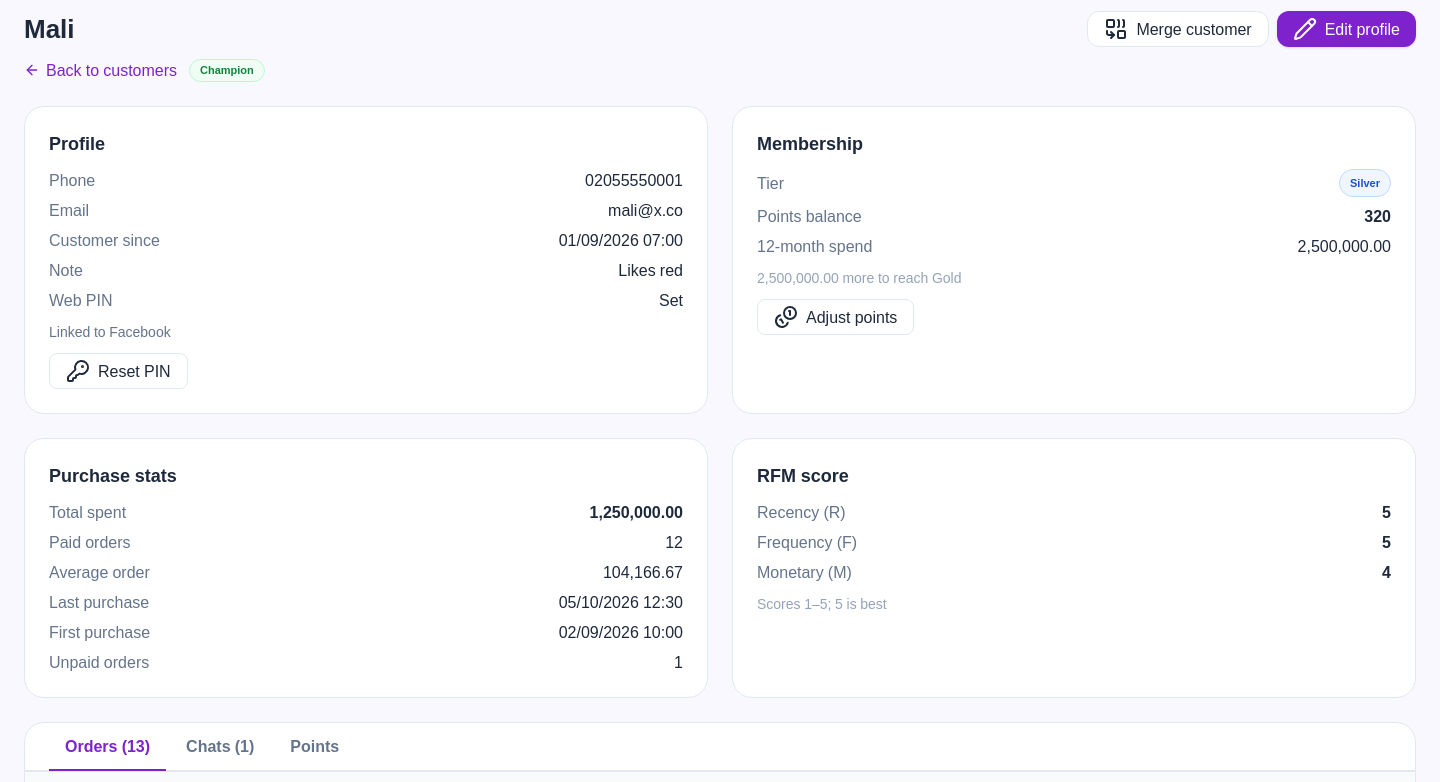
Test: CustomerDetail › ແຖບບິນ (ລິ້ງໄປບິນ) ແລະ ແຖບແຊັດ (ລິ້ງໄປ inbox)
Click the tab "Chats (1)": coordinates (220, 746) [170,722,270,770]
(page scrolled)
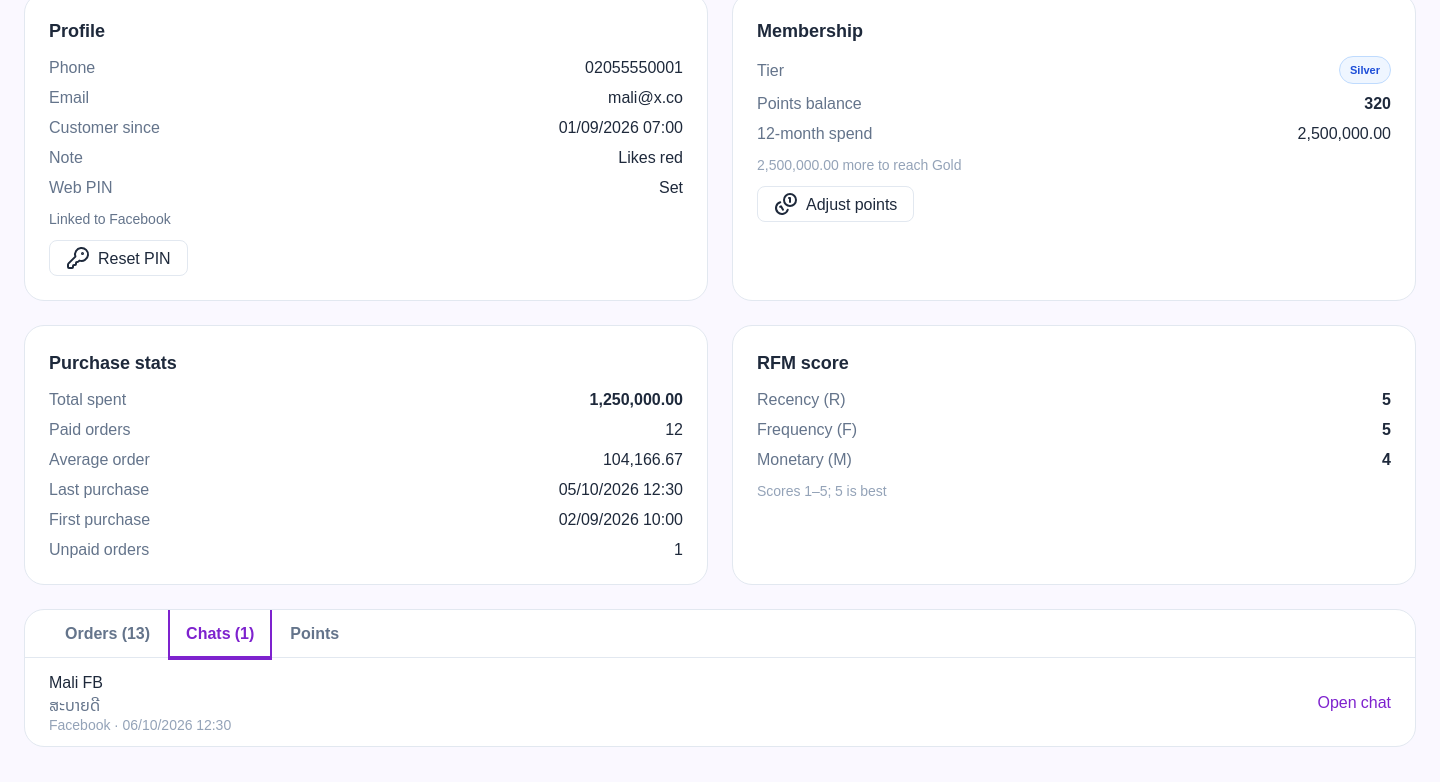
Result: the text "Mali FB" is shown at [49,668,103,694]
